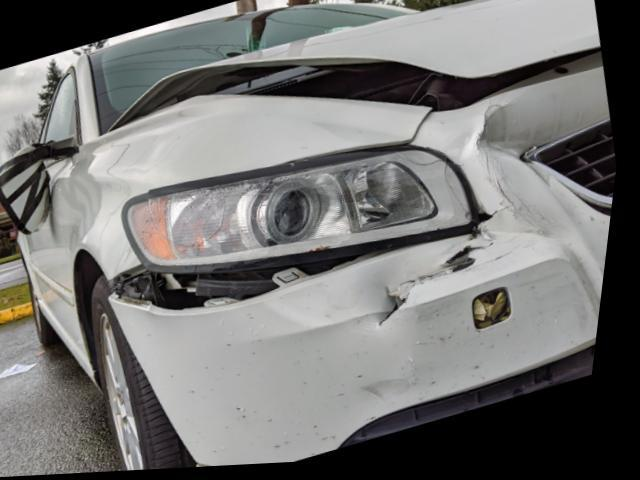crack: (387, 237, 495, 330)
dent: (481, 107, 574, 238), (367, 268, 404, 329)
dislocated part: (110, 48, 604, 135), (116, 237, 483, 317), (0, 137, 85, 237)
lamp broken: (130, 153, 477, 277)
no part: (480, 294, 520, 335)
